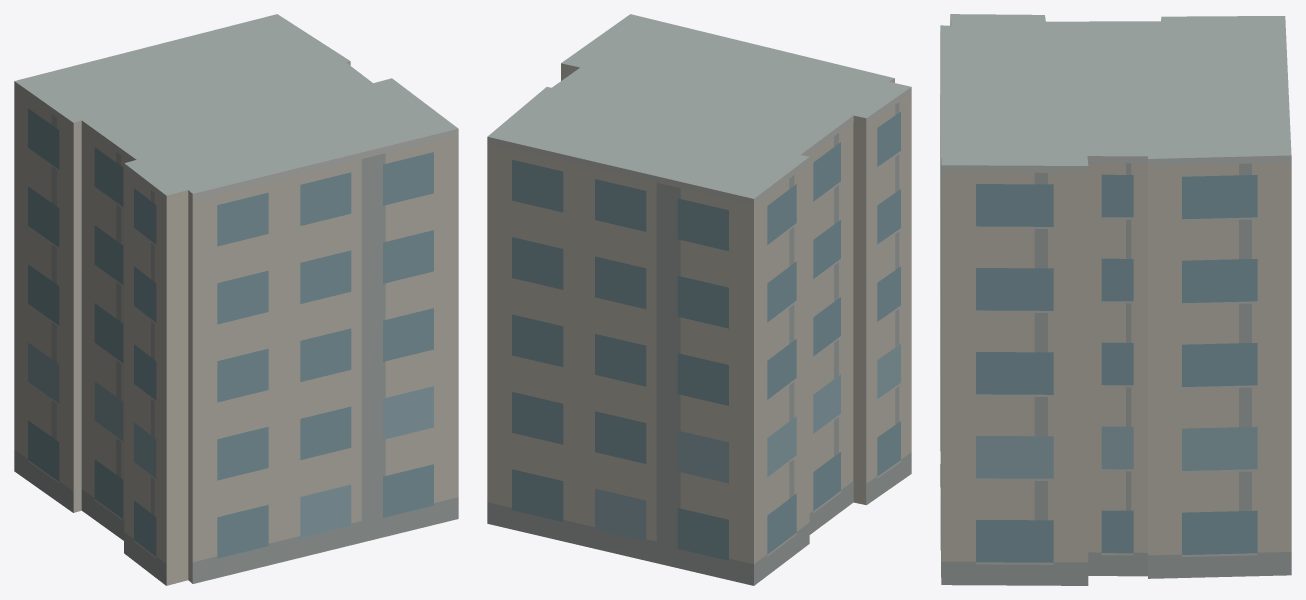
File: survey-upis-32575198.glb
3 renders of one model, left to right at view 1: azimuth 30°, elevation 25°; view 2: azimuth 150°, elevation 25°; view 3: azimuth 270°, elevation 25°, orthographic. The views are drawn at different scales.
Parts seen in each view (by area): view 1: survey-upis-32575198.tmp; view 2: survey-upis-32575198.tmp; view 3: survey-upis-32575198.tmp.
Boxes of the visible parts, x1,y1,x2,y2 form: survey-upis-32575198.tmp: (14, 14, 458, 585); survey-upis-32575198.tmp: (487, 14, 911, 585); survey-upis-32575198.tmp: (940, 14, 1291, 585).
Bounding box in the file's own units: 11.31 × 14.55 × 11.04.
